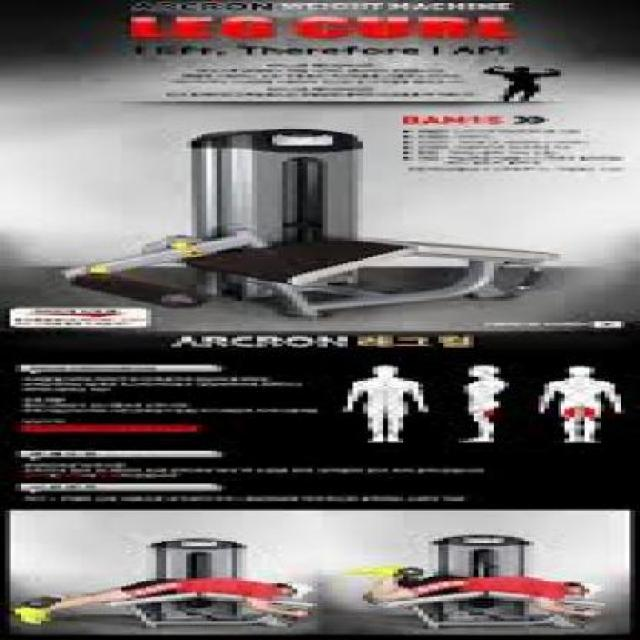reg curl machine: (69, 128, 565, 312), (14, 536, 326, 632), (349, 532, 620, 631)
